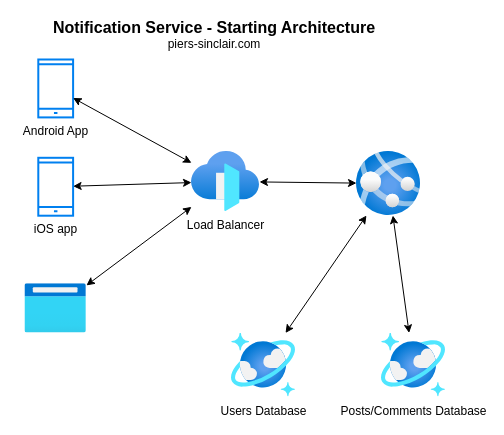
This 504x435 diagram has some shape labels left out. The shapes that lost their labels are listed below. From the top down, each one's centre as x and y in pixels, then its label:
At (x=388, y=183): "API".
At (x=55, y=307): "Website Client".
